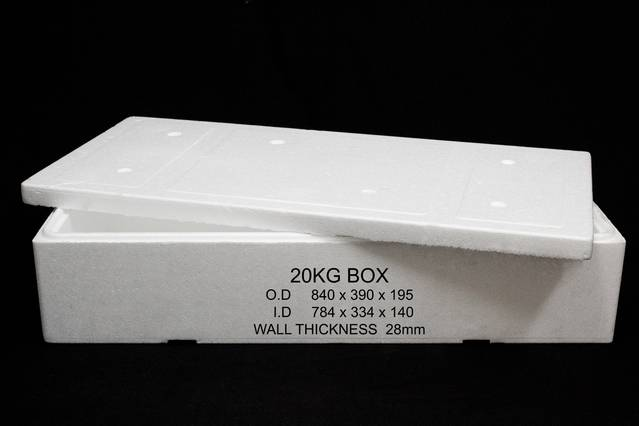泡沫箱: (22, 117, 625, 342)
